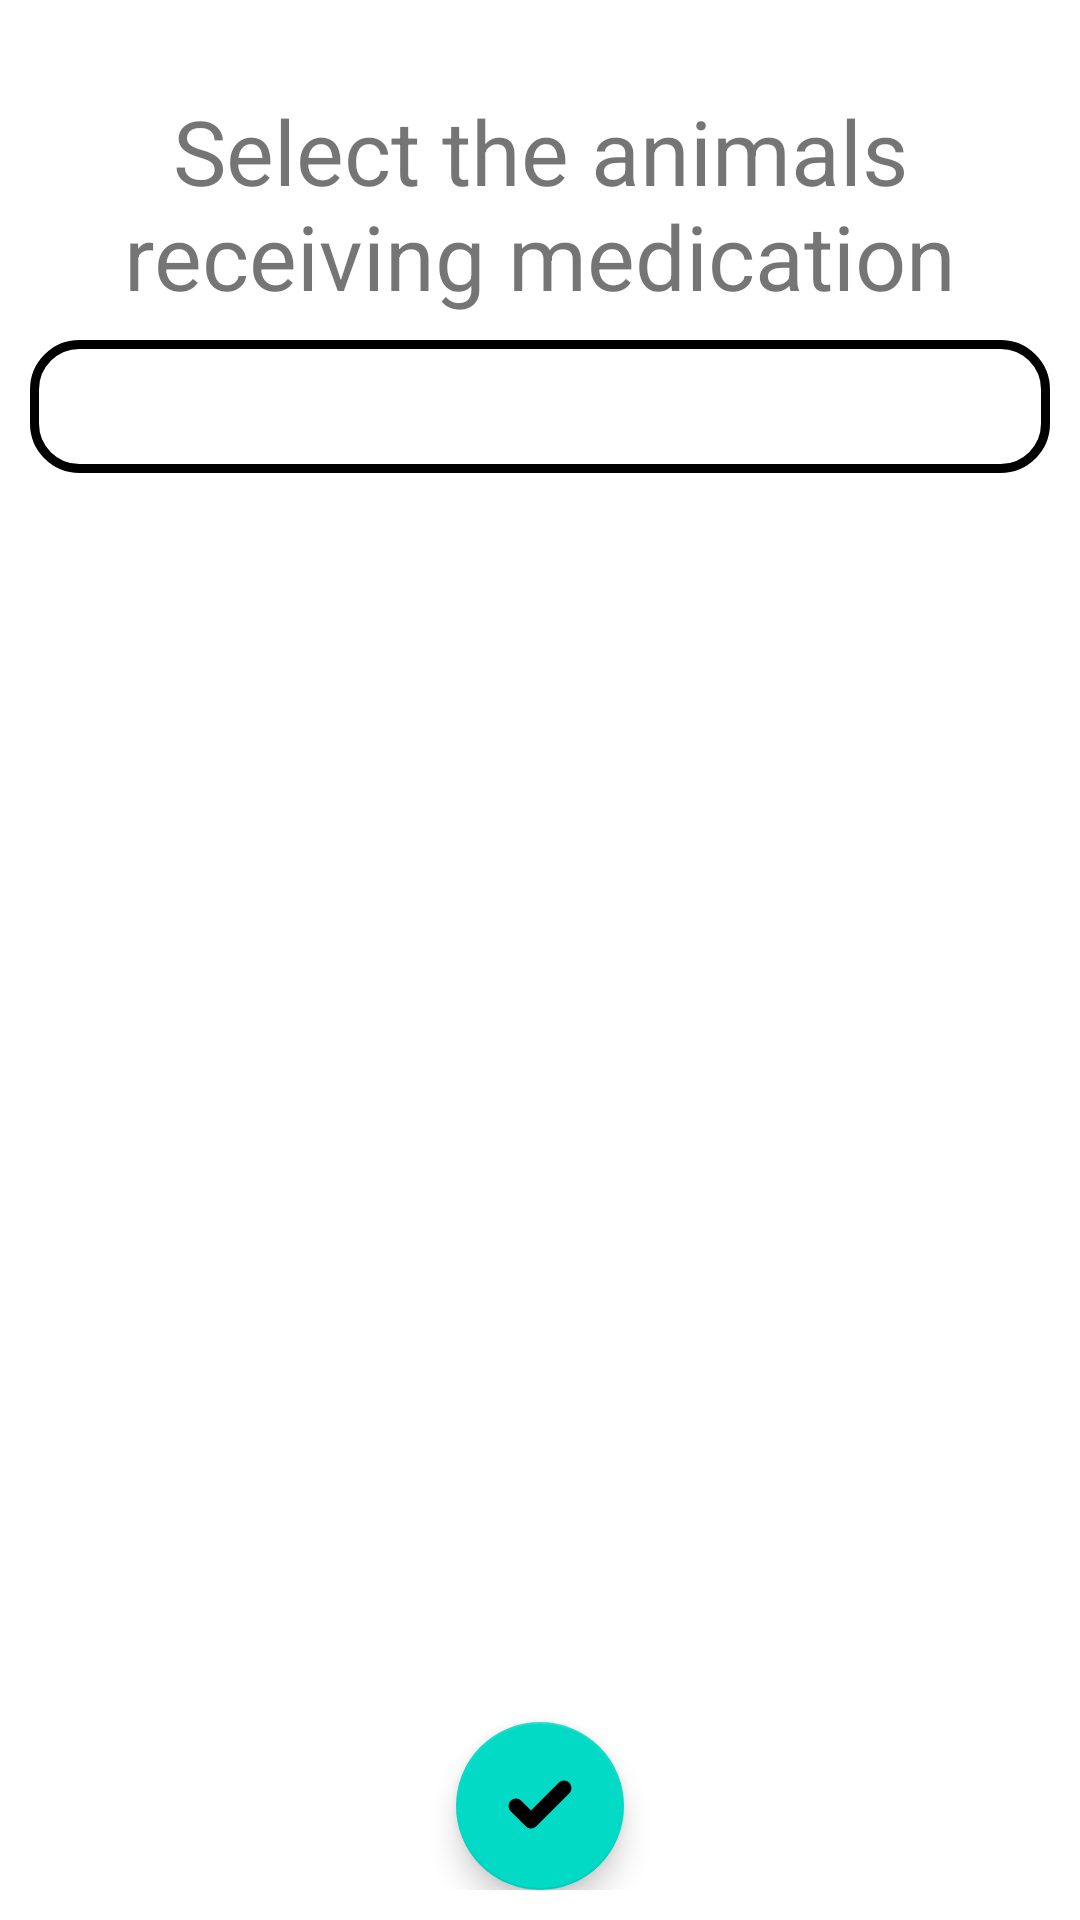

Screen size 1080w x 1920h. Icon name, then its center in pixels as point (x, y):
check: point (540, 1806)
